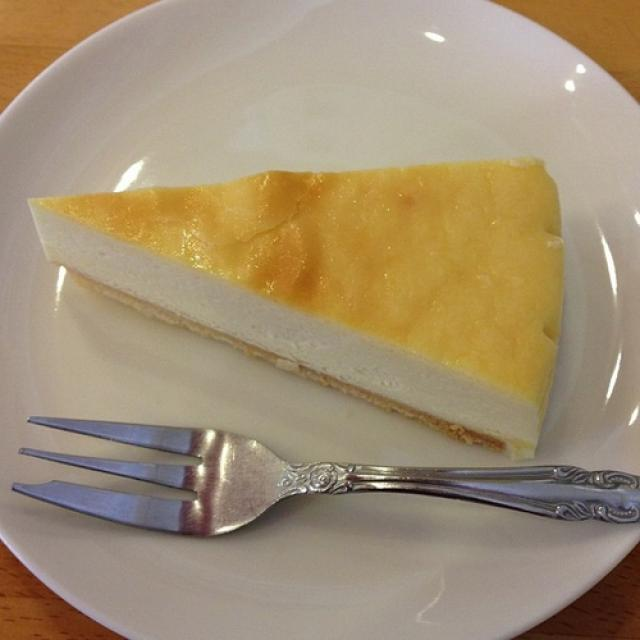Rare cheese cake: (6, 132, 590, 484)
